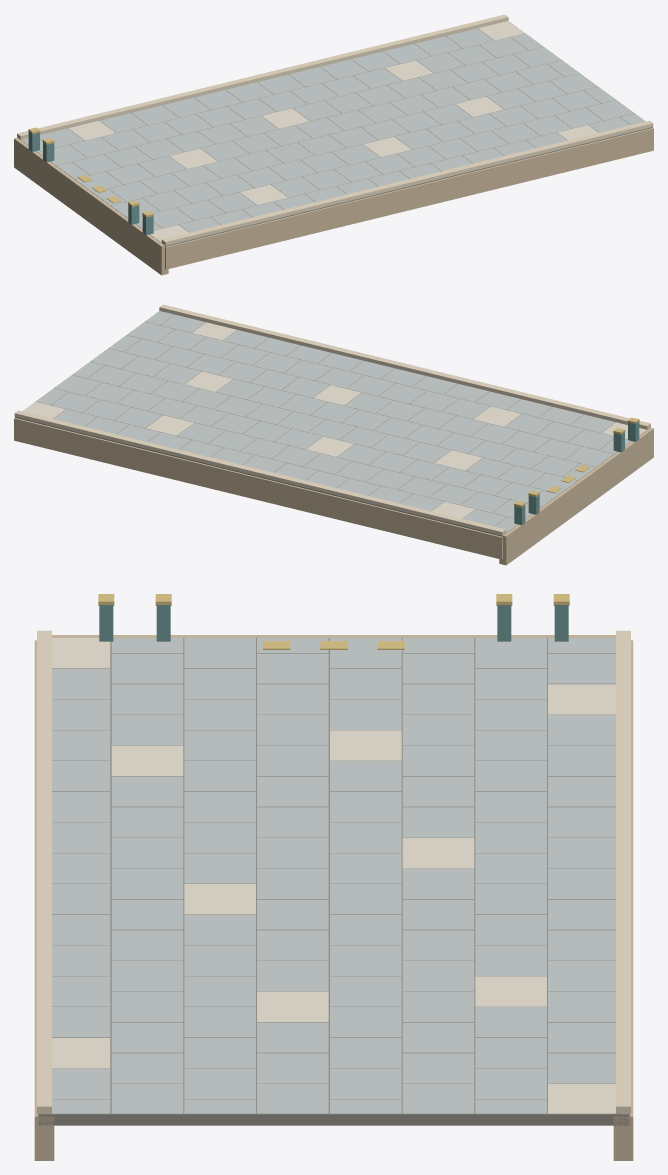
File: DeliveryCanalEastBank.glb
3 views of the same model, one above another, from view 1: azimuth 30°, elevation 25°; view 2: azimuth 150°, elevation 25°; view 3: azimuth 270°, elevation 25° (orthographic). The views are drawn at different scales.
Visible parts, largest first — view 1: DeliveryCanalEastBank; view 2: DeliveryCanalEastBank; view 3: DeliveryCanalEastBank.
Part boxes in pixels (<box>): DeliveryCanalEastBank: <box>14,14,653,275</box>; DeliveryCanalEastBank: <box>14,304,653,565</box>; DeliveryCanalEastBank: <box>34,594,633,1160</box>.
Bounding box in the file's own units: 24.19 × 2.31 × 12.76.
